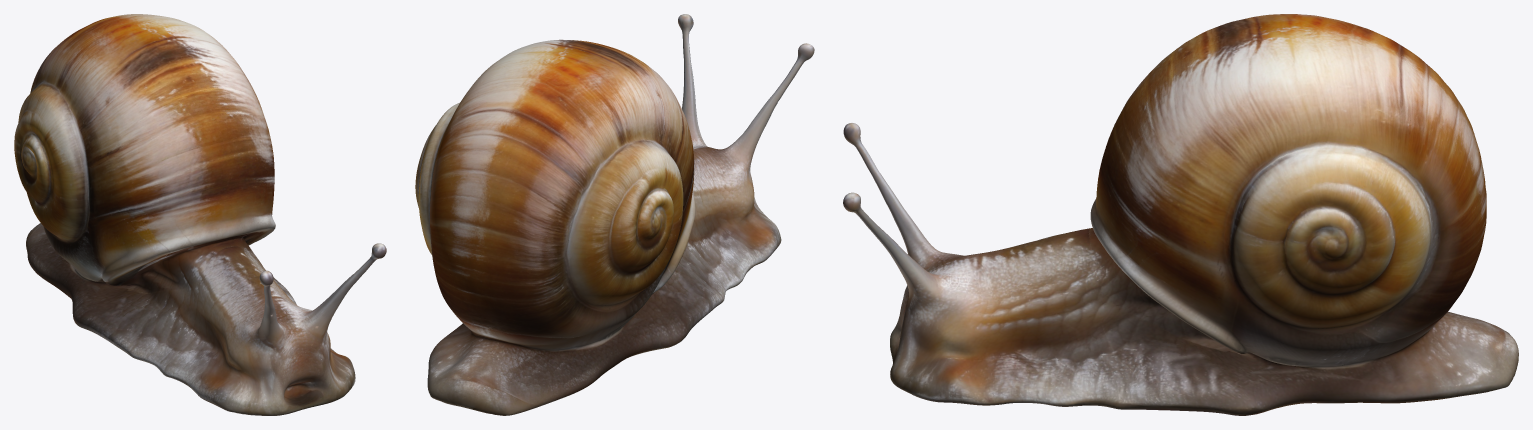
File: Snail.fbx
The picture shows the model from 3 angles, left to right: view 1: azimuth 30°, elevation 25°; view 2: azimuth 150°, elevation 25°; view 3: azimuth 270°, elevation 25°; orthographic projection. The views are drawn at different scales.
Visible parts, largest first — view 1: Mesh_0; view 2: Mesh_0; view 3: Mesh_0.
Boxes of the visible parts, box(x1,y1,x2,y2) form: Mesh_0: box(14, 14, 386, 415); Mesh_0: box(415, 14, 814, 415); Mesh_0: box(843, 14, 1518, 415).
Size of the model in its own units: 92.96 by 110 by 200.
1 material, 1 textured.
